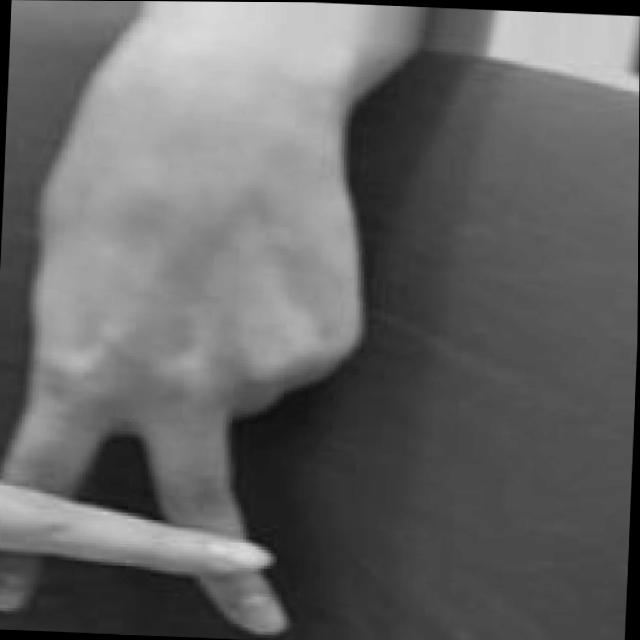A: (0, 77, 384, 640)
